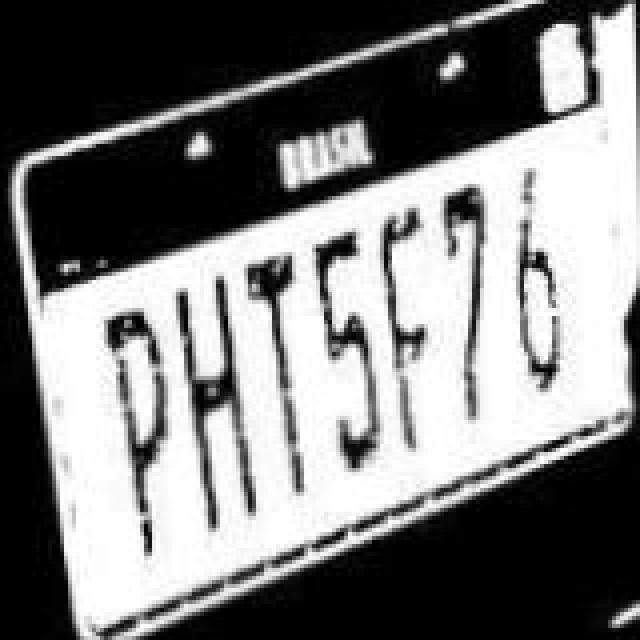5: (308, 220, 380, 496)
6: (512, 152, 584, 416)
7: (436, 170, 516, 446)
F: (372, 194, 436, 470)
H: (182, 254, 262, 538)
P: (106, 282, 178, 558)
T: (244, 242, 320, 514)
